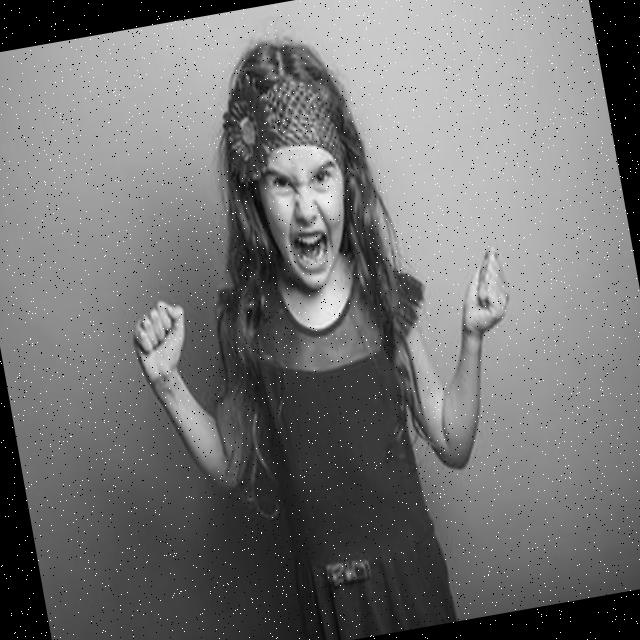Angry: (250, 134, 360, 296)
